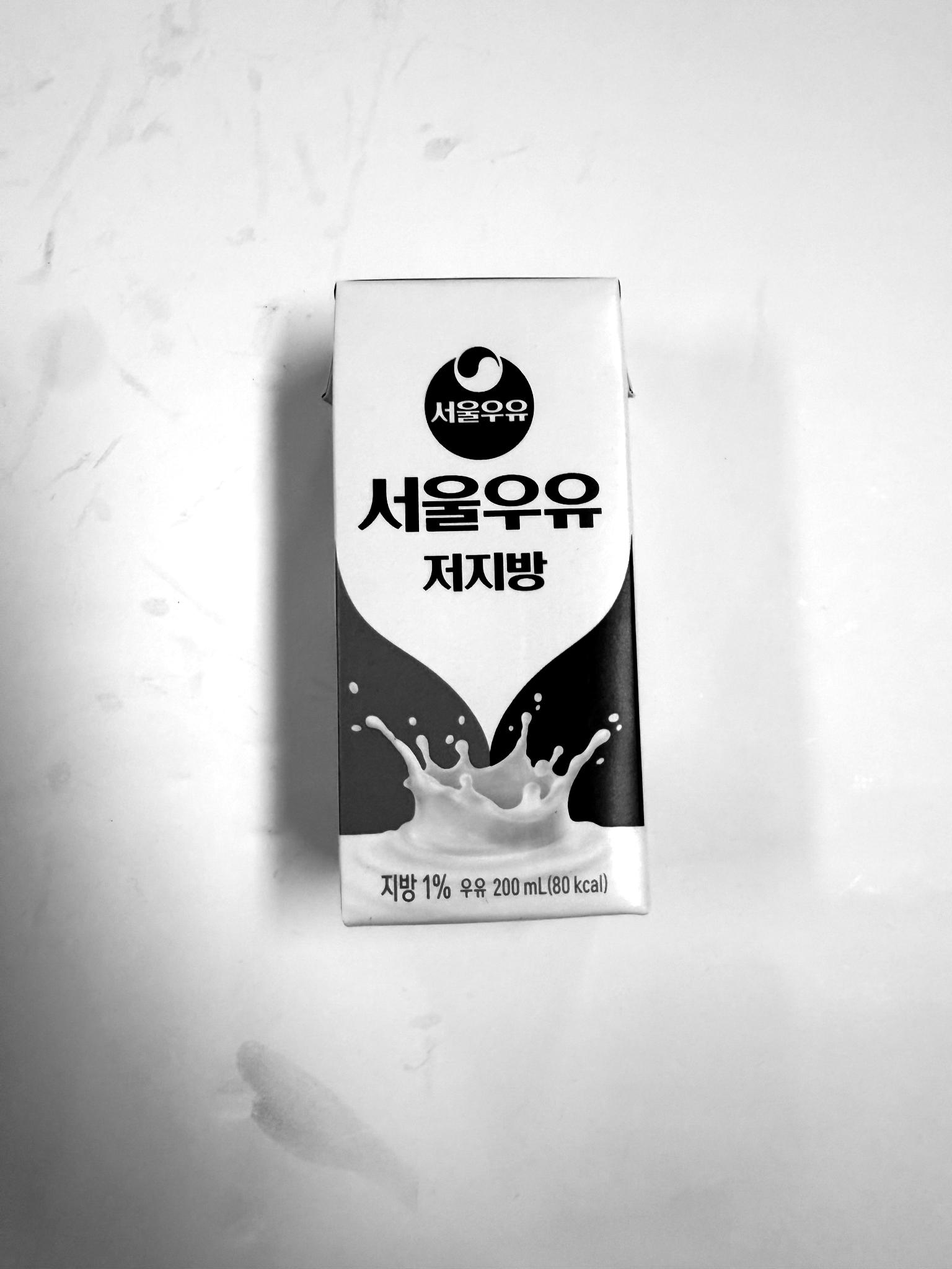milk_blue: (332, 278, 648, 925)
